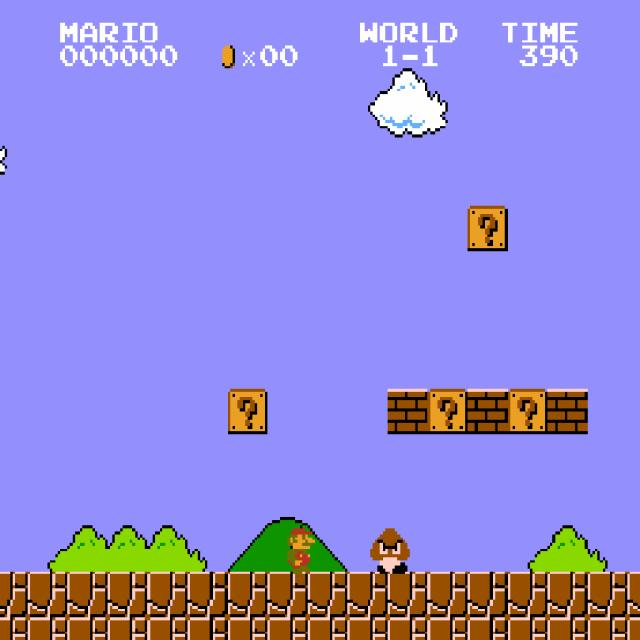brick_block: (387, 389, 428, 434), (467, 389, 508, 434), (547, 389, 588, 434)
goomba: (368, 526, 410, 574)
little_mario: (277, 526, 320, 574)
mystery_block: (227, 389, 268, 434), (427, 389, 468, 434), (467, 206, 508, 251), (507, 389, 548, 434)
undestructible_block: (27, 572, 68, 617), (67, 572, 108, 617), (107, 572, 148, 617), (147, 572, 188, 617), (187, 572, 228, 617), (227, 572, 268, 617), (267, 572, 308, 617), (307, 572, 348, 617), (347, 572, 388, 617), (387, 572, 428, 617), (427, 572, 468, 617), (467, 572, 508, 617), (507, 572, 548, 617), (547, 572, 588, 617), (587, 572, 628, 617), (0, 572, 28, 617), (27, 617, 68, 640), (67, 617, 108, 640), (107, 617, 148, 640), (147, 617, 188, 640), (187, 617, 228, 640), (227, 617, 268, 640), (267, 617, 308, 640), (307, 617, 348, 640), (347, 617, 388, 640), (387, 617, 428, 640), (427, 617, 468, 640), (467, 617, 508, 640), (507, 617, 548, 640), (547, 617, 588, 640), (587, 617, 628, 640), (0, 617, 28, 640), (627, 572, 640, 617), (627, 617, 640, 640)
